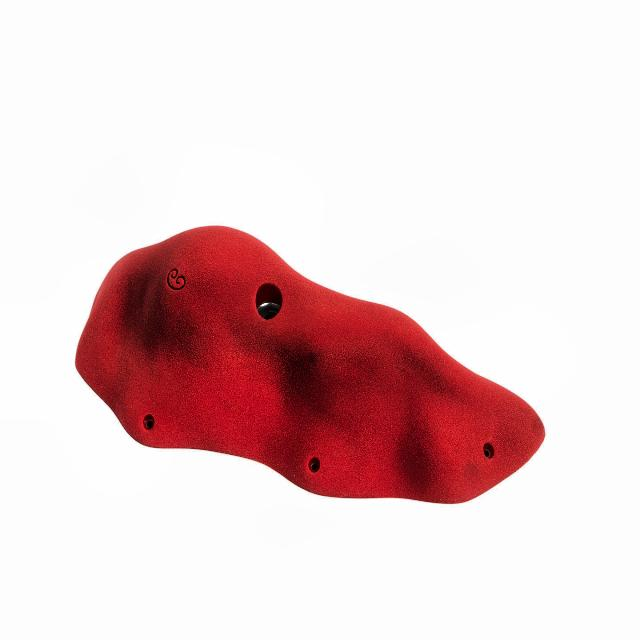Hold: (64, 219, 566, 527)
